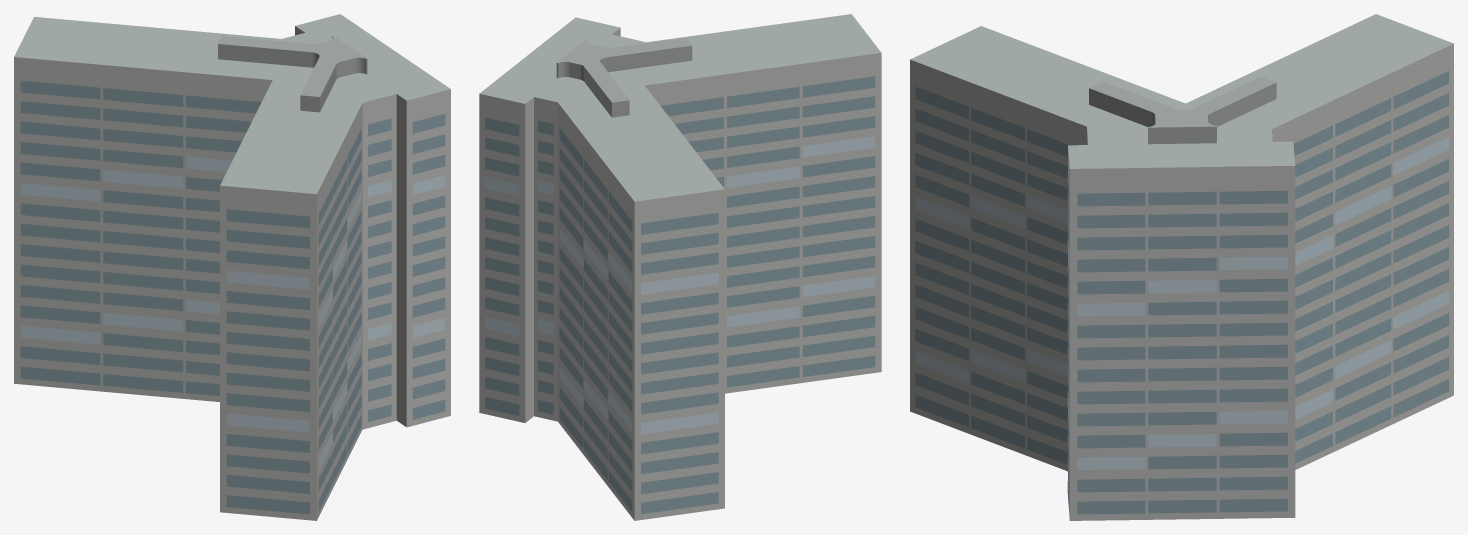
Rendered from fallback-raemian-oksu-riverzen-115.glb.
The picture shows the model from 3 angles, left to right: view 1: azimuth 30°, elevation 25°; view 2: azimuth 150°, elevation 25°; view 3: azimuth 270°, elevation 25°; orthographic projection. The views are drawn at different scales.
Parts seen in each view (by area): view 1: fallback-raemian-oksu-riverzen-115; view 2: fallback-raemian-oksu-riverzen-115; view 3: fallback-raemian-oksu-riverzen-115.
Part boxes in pixels (x1,y1,x2,y2): fallback-raemian-oksu-riverzen-115: (14, 14, 450, 520); fallback-raemian-oksu-riverzen-115: (479, 14, 881, 520); fallback-raemian-oksu-riverzen-115: (910, 14, 1453, 520).
Bounding box in the file's own units: 41.5 × 46 × 61.53.
